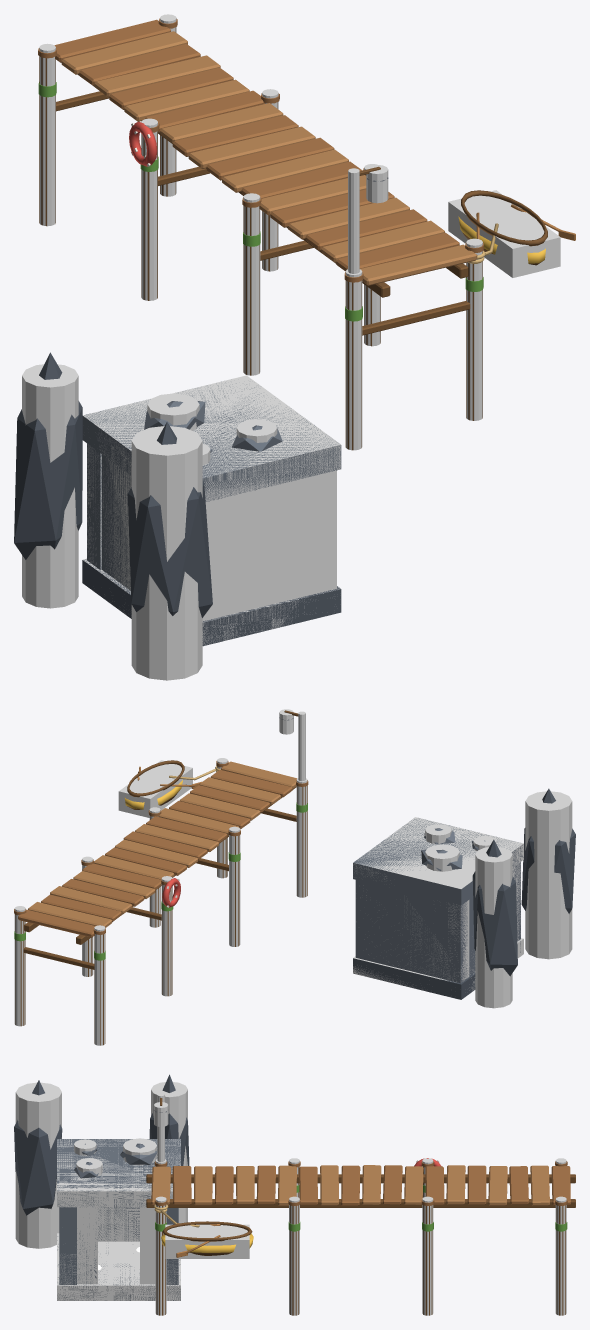
File: pier.glb
3 renders of one model, top to bottom at view 1: azimuth 30°, elevation 25°; view 2: azimuth 150°, elevation 25°; view 3: azimuth 270°, elevation 25°, orthographic. The views are drawn at different scales.
Visible parts, largest first — view 1: pier, gruta, col-gruta-4, col-gruta-2, col-cil-rocha-gruta-4, col-cil-rocha-gruta-5, col-barco-1, col-cil-estaca-5, col-cil-estaca-1, col-cil-estaca-7, col-cil-estaca-3, col-cil-estaca-8 (+7 smaller); view 2: gruta, pier, col-cil-rocha-gruta-4, col-gruta-2, col-cil-rocha-gruta-5, col-barco-1, col-cil-estaca-2, col-cil-estaca-5, col-cil-estaca-7, col-cil-estaca-3, barquinho-decorativo, col-cil-estaca-1 (+6 smaller); view 3: pier, gruta, col-cil-rocha-gruta-4, col-gruta-2, col-gruta-1, col-barco-1, col-gruta-7, col-gruta-5, barquinho-decorativo, col-cil-rocha-gruta-5, col-gruta-6, col-cil-estaca-2 (+7 smaller).
Part boxes in pixels (<box>): pier: <box>38,18,485,450</box>; gruta: <box>14,352,341,646</box>; col-gruta-4: <box>202,470,336,621</box>; col-gruta-2: <box>83,375,340,502</box>; col-cil-rocha-gruta-4: <box>131,426,202,680</box>; col-cil-rocha-gruta-5: <box>22,364,78,608</box>; col-barco-1: <box>448,190,560,277</box>; col-cil-estaca-5: <box>243,193,260,375</box>; col-cil-estaca-1: <box>39,43,55,226</box>; col-cil-estaca-7: <box>345,269,362,450</box>; col-cil-estaca-3: <box>141,118,157,300</box>; col-cil-estaca-8: <box>466,238,482,420</box>; gruta: <box>353,788,575,999</box>; pier: <box>14,710,308,1045</box>; col-cil-rocha-gruta-4: <box>525,791,572,959</box>; col-gruta-2: <box>353,817,523,888</box>; col-cil-rocha-gruta-5: <box>475,847,512,1008</box>; col-barco-1: <box>118,760,192,817</box>; col-cil-estaca-2: <box>14,906,25,1026</box>; col-cil-estaca-5: <box>229,826,240,946</box>; col-cil-estaca-7: <box>296,778,307,897</box>; col-cil-estaca-3: <box>161,876,172,996</box>; barquinho-decorativo: <box>124,760,215,809</box>; col-cil-estaca-1: <box>94,925,105,1045</box>; pier: <box>146,1098,575,1315</box>; gruta: <box>14,1074,189,1300</box>; col-cil-rocha-gruta-4: <box>15,1082,61,1248</box>; col-gruta-2: <box>57,1139,180,1207</box>; col-gruta-1: <box>57,1233,180,1300</box>; col-barco-1: <box>165,1224,249,1258</box>; col-gruta-7: <box>77,1207,97,1284</box>; col-gruta-5: <box>98,1207,139,1241</box>; barquinho-decorativo: <box>160,1210,253,1257</box>; col-cil-rocha-gruta-5: <box>151,1082,187,1223</box>; col-gruta-6: <box>140,1207,155,1284</box>; col-cil-estaca-2: <box>555,1196,566,1315</box>.
Bounding box in the file's own units: 10.17 × 6.18 × 13.34.
